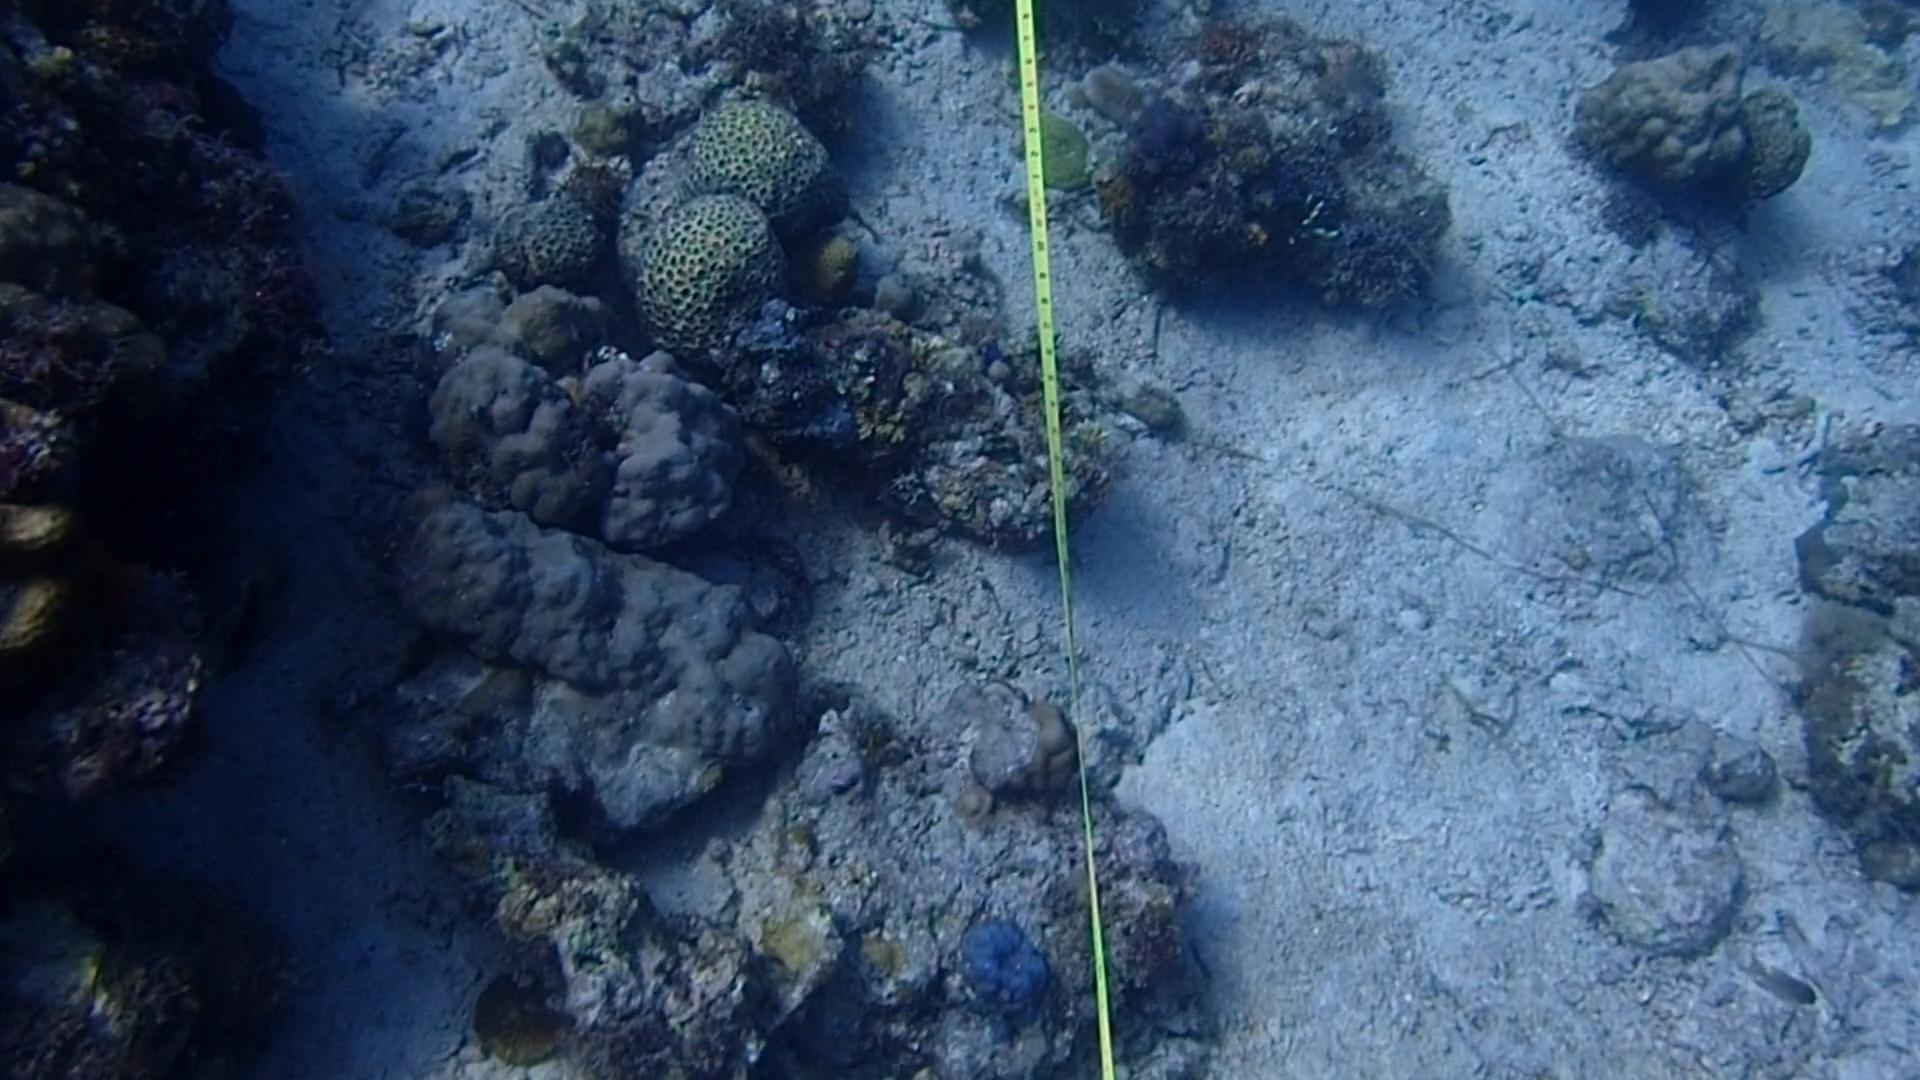Light Fish: (1730, 943, 1833, 1013)
